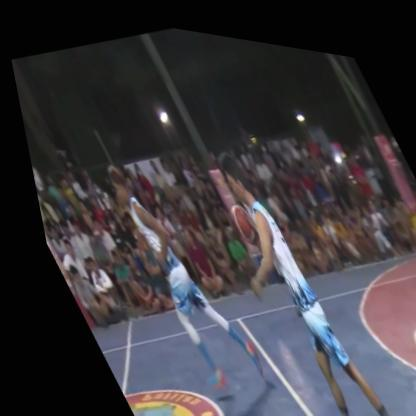basketball: (218, 192, 257, 246)
